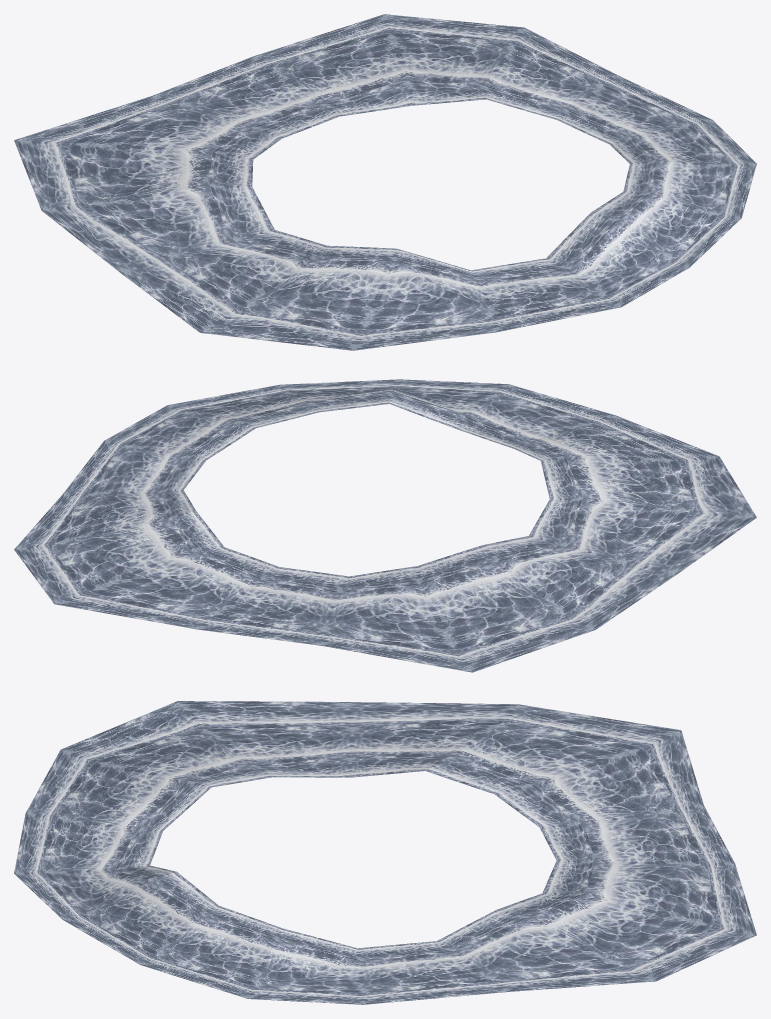
Rendered from shuai02.obj.
3 views of the same model, one above another, from view 1: azimuth 30°, elevation 25°; view 2: azimuth 150°, elevation 25°; view 3: azimuth 270°, elevation 25° (orthographic). The views are drawn at different scales.
Parts seen in each view (by area): view 1: shuai02; view 2: shuai02; view 3: shuai02.
Boxes of the visible parts, bbox=[...] form: shuai02: bbox=[14, 14, 756, 350]; shuai02: bbox=[14, 379, 756, 672]; shuai02: bbox=[14, 701, 756, 1004].
Size of the model in its own units: 849 by 33.76 by 877.
